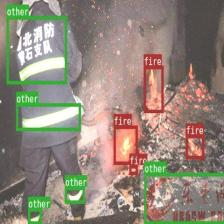fire: (144, 65, 163, 112), (114, 126, 137, 164), (185, 134, 204, 158), (129, 164, 137, 174)
